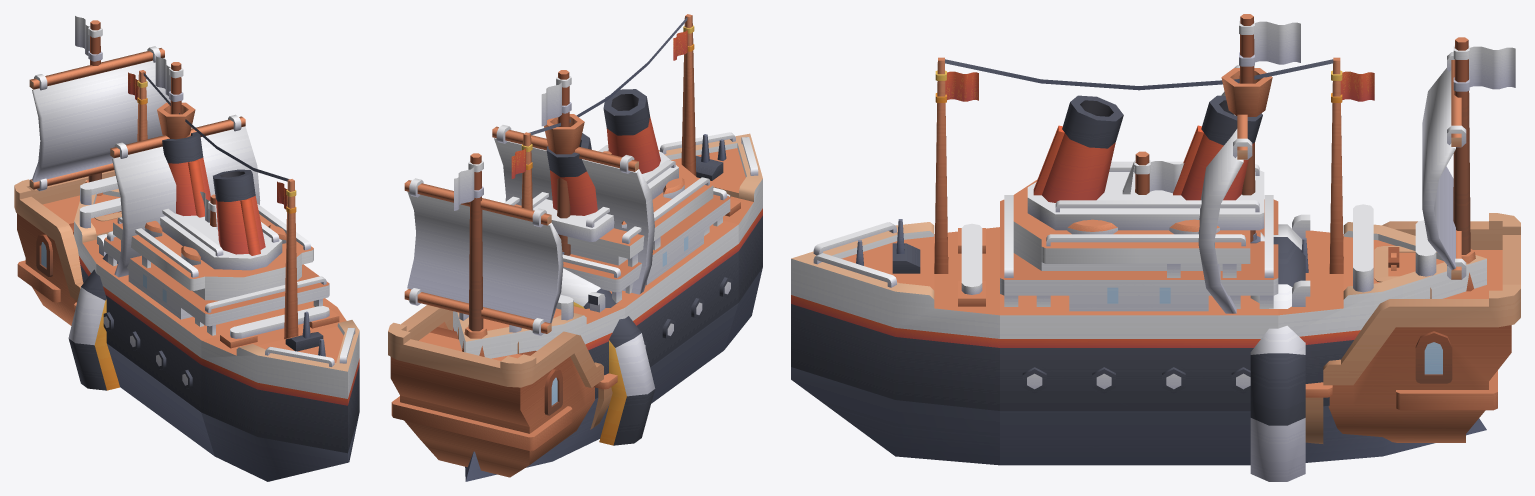
Rendered from kenney.glb.
3 views of the same model, side by side, from view 1: azimuth 30°, elevation 25°; view 2: azimuth 150°, elevation 25°; view 3: azimuth 270°, elevation 25° (orthographic). The views are drawn at different scales.
Parts seen in each view (by area): view 1: ship-ocean-liner-small, sail-b, ship-small, sail-a, gate-finish, flag-b, flag-c; view 2: ship-ocean-liner-small, ship-small, sail-b, sail-a, gate-finish, flag-b, flag-c; view 3: ship-ocean-liner-small, ship-small, gate-finish, sail-b, sail-a, flag-c, flag-b, flag-a.
Part boxes in pixels (x1,y1,x2,y2): ship-ocean-liner-small: (74, 70, 359, 481); sail-b: (29, 46, 170, 191); ship-small: (14, 20, 217, 325); sail-a: (110, 114, 260, 277); gate-finish: (68, 253, 119, 390); flag-b: (155, 55, 183, 101); flag-c: (75, 16, 102, 61); ship-ocean-liner-small: (453, 14, 762, 481); ship-small: (388, 70, 617, 477); sail-b: (404, 178, 563, 335); sail-a: (492, 125, 654, 294); gate-finish: (560, 268, 655, 445); flag-b: (541, 76, 571, 126); flag-c: (454, 160, 483, 210); ship-ocean-liner-small: (791, 57, 1486, 465); ship-small: (1122, 14, 1520, 443); gate-finish: (1250, 224, 1305, 481); sail-b: (1422, 52, 1466, 279); sail-a: (1198, 65, 1252, 313); flag-c: (1453, 45, 1515, 91); flag-b: (1239, 20, 1300, 66); flag-a: (1134, 160, 1184, 193).
Bounding box in the file's own units: 6.2 × 10.26 × 15.94.
1 material, 1 textured.
